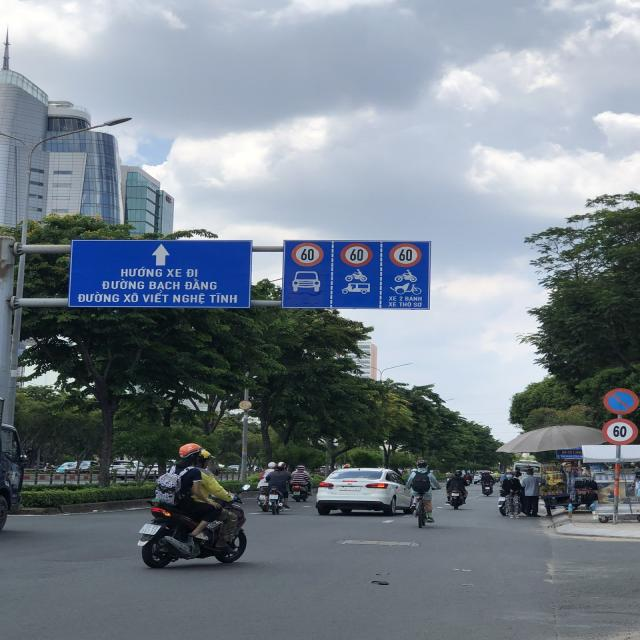Bien bao cam do xe: (596, 383, 640, 416)
Bien bao toc do toi da cho phep: (382, 241, 429, 268), (335, 240, 377, 270), (598, 417, 640, 446), (290, 240, 330, 269)
